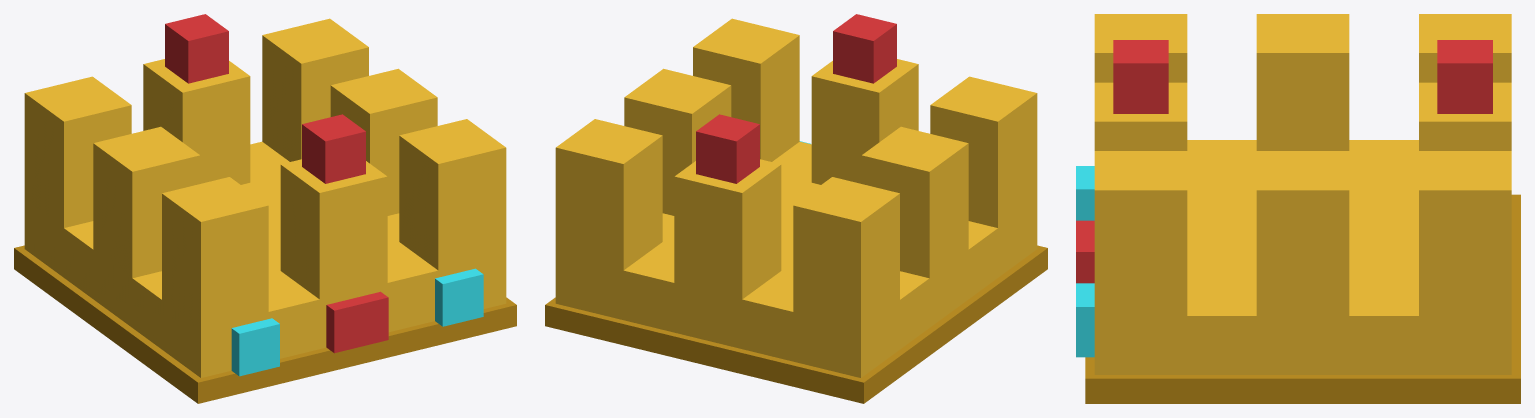
Rendered from hat_crown.obj.
The picture shows the model from 3 angles, left to right: view 1: azimuth 30°, elevation 25°; view 2: azimuth 150°, elevation 25°; view 3: azimuth 270°, elevation 25°; orthographic projection. The views are drawn at different scales.
Parts seen in each view (by area): view 1: hat_crown; view 2: hat_crown; view 3: hat_crown.
Boxes of the visible parts, left/top/right/bottom form: hat_crown: left=14, top=14, right=516, bottom=403; hat_crown: left=545, top=14, right=1047, bottom=403; hat_crown: left=1076, top=14, right=1520, bottom=403.
Bounding box in the file's own units: 0.5875 × 0.3875 × 0.6.
